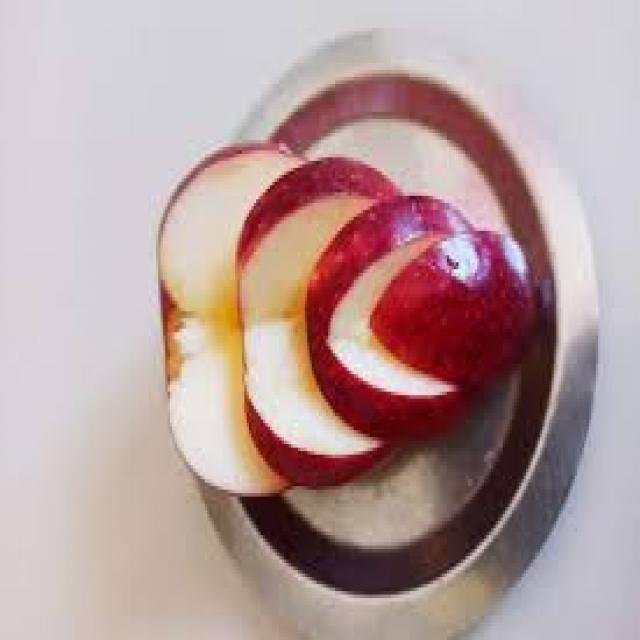Apple: (239, 156, 404, 486), (156, 142, 309, 494), (308, 198, 480, 439), (374, 230, 540, 388)
